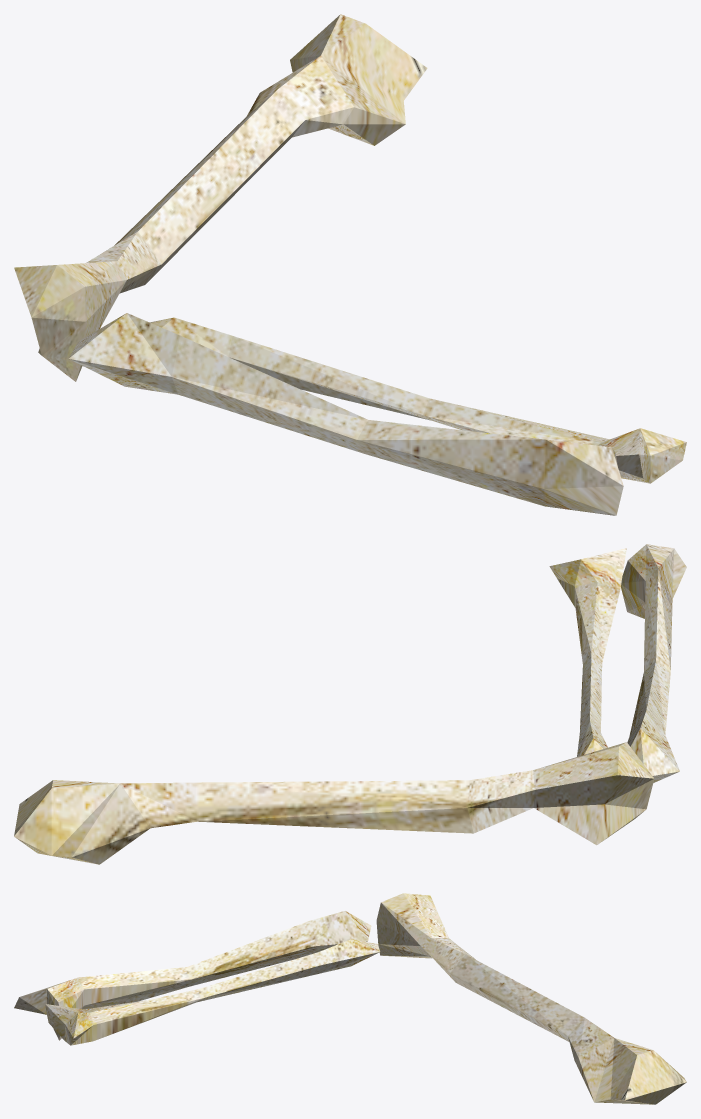
The model's file is poi_tato_skel_krayt_arm_s01_l0.fbx.
3 views of the same model, one above another, from view 1: azimuth 30°, elevation 25°; view 2: azimuth 150°, elevation 25°; view 3: azimuth 270°, elevation 25° (orthographic). The views are drawn at different scales.
Parts seen in each view (by area): view 1: mesh_node; view 2: mesh_node; view 3: mesh_node.
Boxes of the visible parts, x1,y1,x2,y2 form: mesh_node: (14, 14, 686, 515); mesh_node: (14, 544, 686, 864); mesh_node: (14, 893, 686, 1104).
Size of the model in its own units: 3.15 by 0.5731 by 5.16.
Materials: 1 (1 with a texture image).
